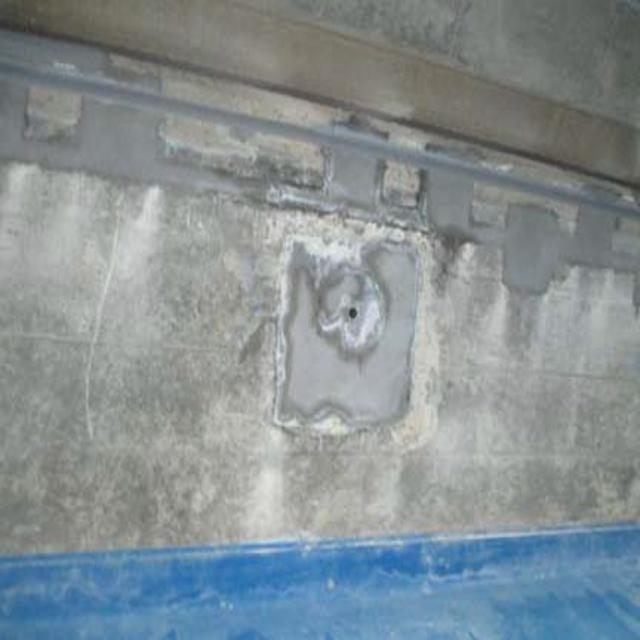freelime: (256, 219, 460, 447)
